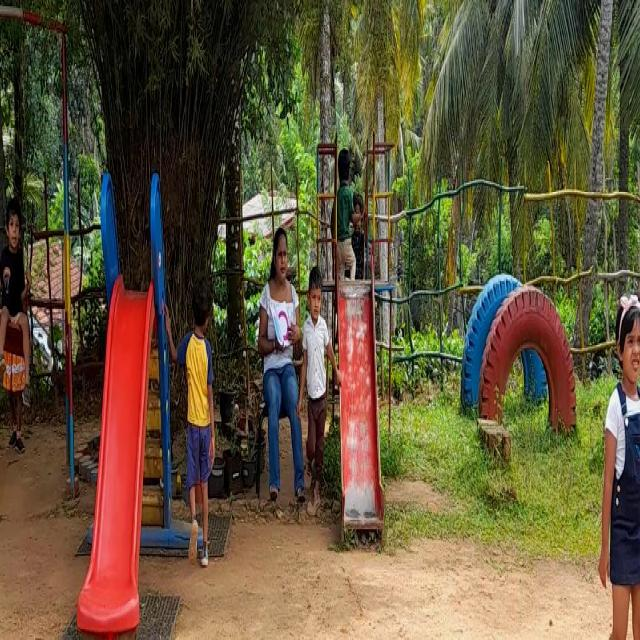adult: (258, 222, 305, 514)
child: (590, 292, 640, 640), (178, 272, 222, 568), (302, 259, 335, 521), (0, 203, 35, 403), (331, 151, 360, 285)
